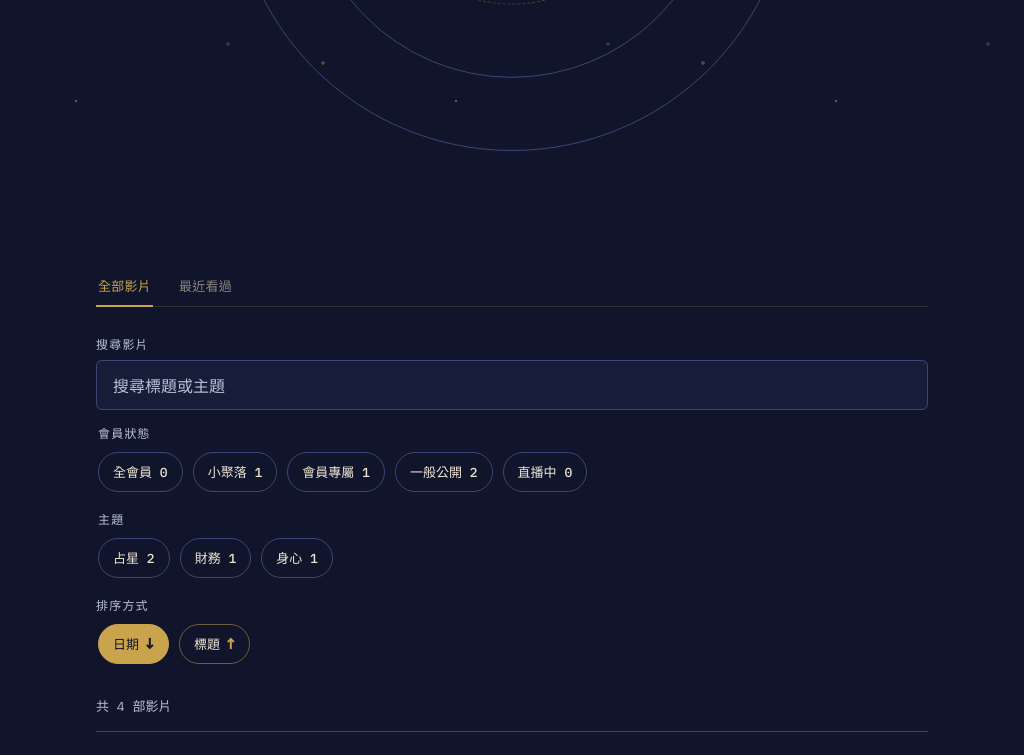
Test case: App › no match shows an empty state
(page scrolled)
In the search field labelled "搜尋影片": point(512, 385) [96,360,928,410], type "不存在的影片"
(page scrolled)
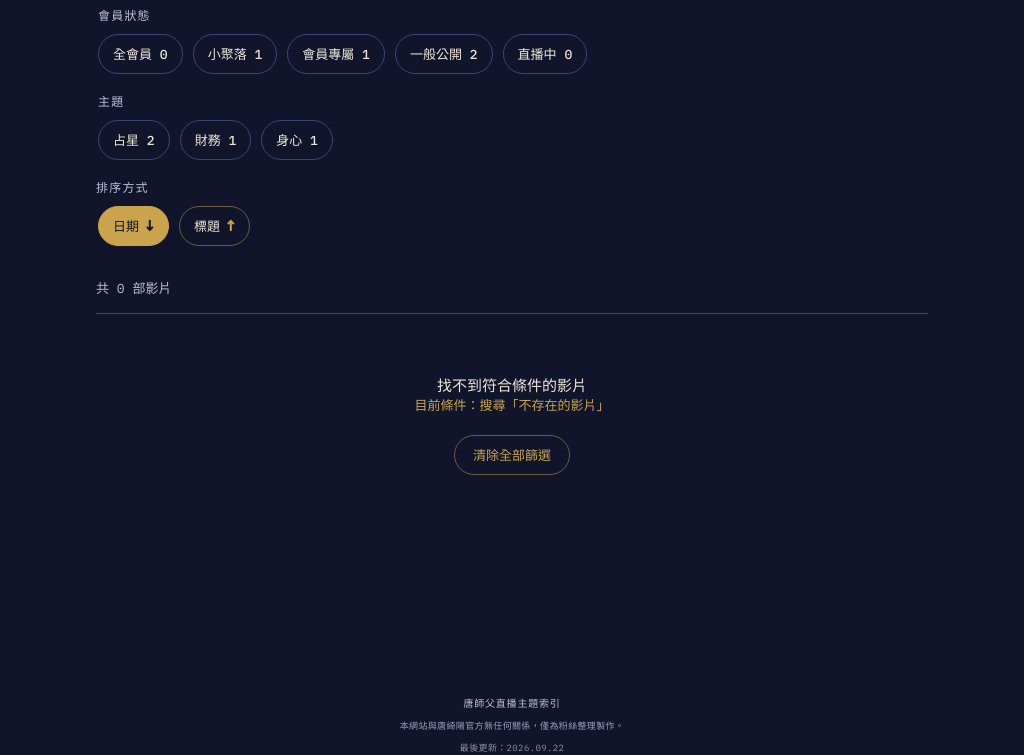
Expected: the text "找不到符合條件的影片" is shown, [437,376,587,395]
